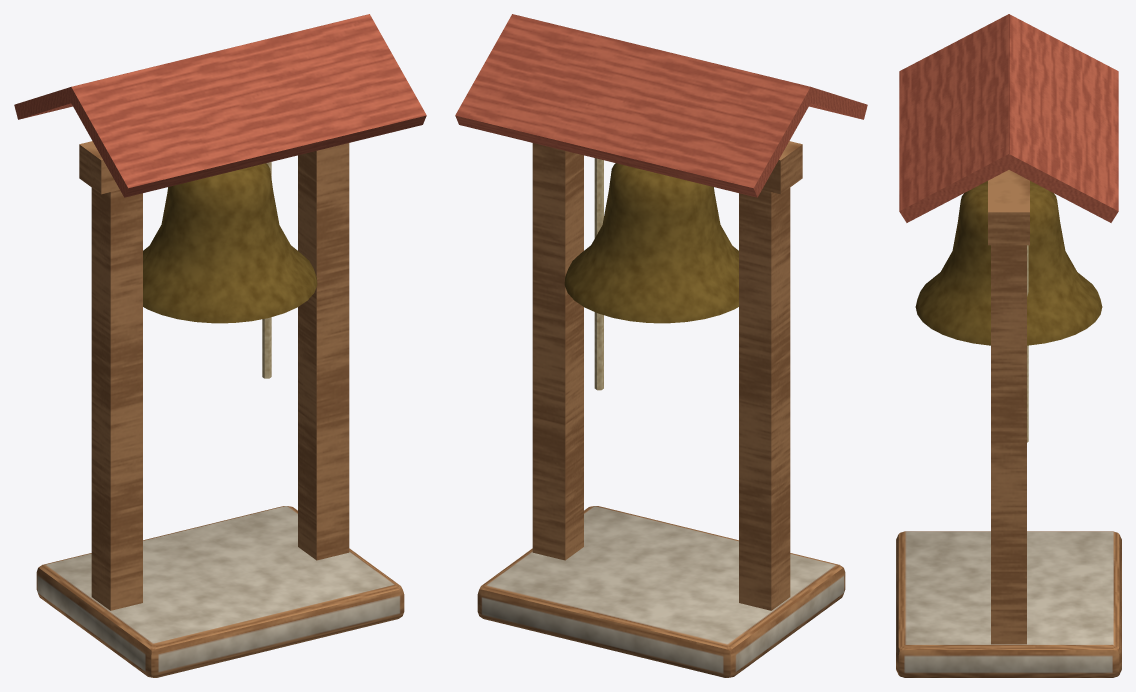
Rendered from bell.glb.
The picture shows the model from 3 angles, left to right: view 1: azimuth 30°, elevation 25°; view 2: azimuth 150°, elevation 25°; view 3: azimuth 270°, elevation 25°; orthographic projection. The views are drawn at different scales.
Parts seen in each view (by area): view 1: BellFrame, BellCup; view 2: BellFrame, BellCup; view 3: BellFrame, BellCup.
Boxes of the visible parts, x1,y1,x2,y2 form: BellFrame: (14,14,426,677); BellCup: (143,163,317,323); BellFrame: (455,14,867,677); BellCup: (564,163,738,323); BellFrame: (896,14,1121,677); BellCup: (915,181,1102,345).
Bounding box in the file's own units: 1.1 × 1.97 × 0.75.
Materials: 5 (5 with a texture image).
